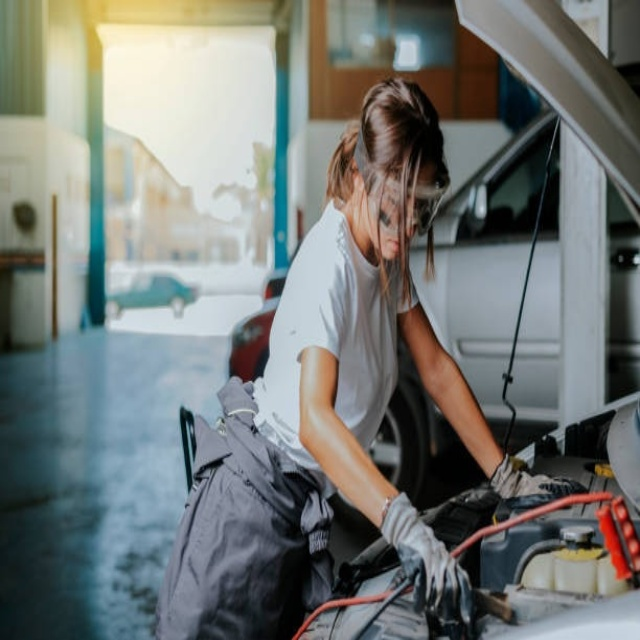Gafas: (374, 170, 446, 240)
Guantes: (380, 492, 462, 614), (488, 451, 555, 502)
Sin_mascara: (380, 229, 413, 262)
